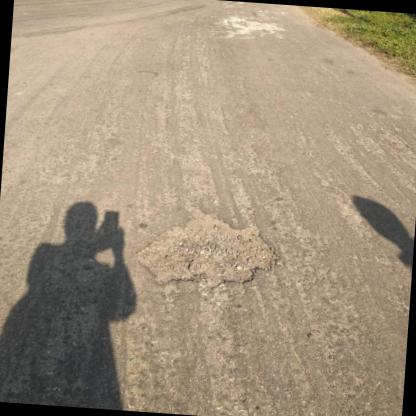pothole: (128, 200, 284, 296)
